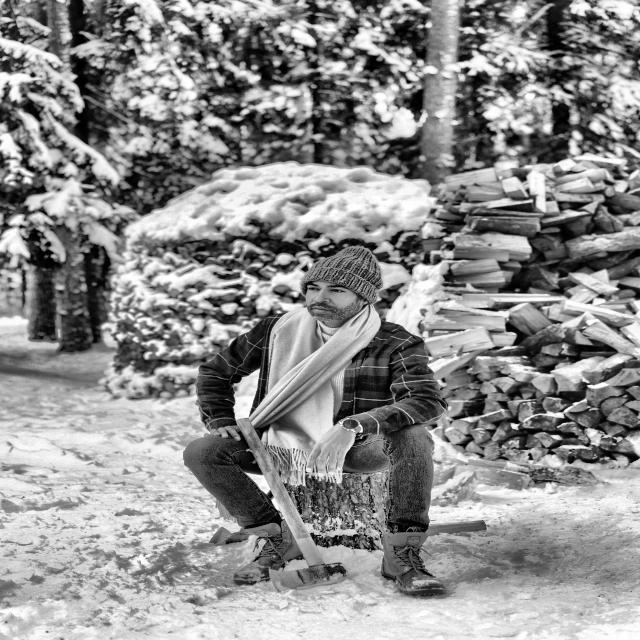kapak: (229, 412, 357, 600)
